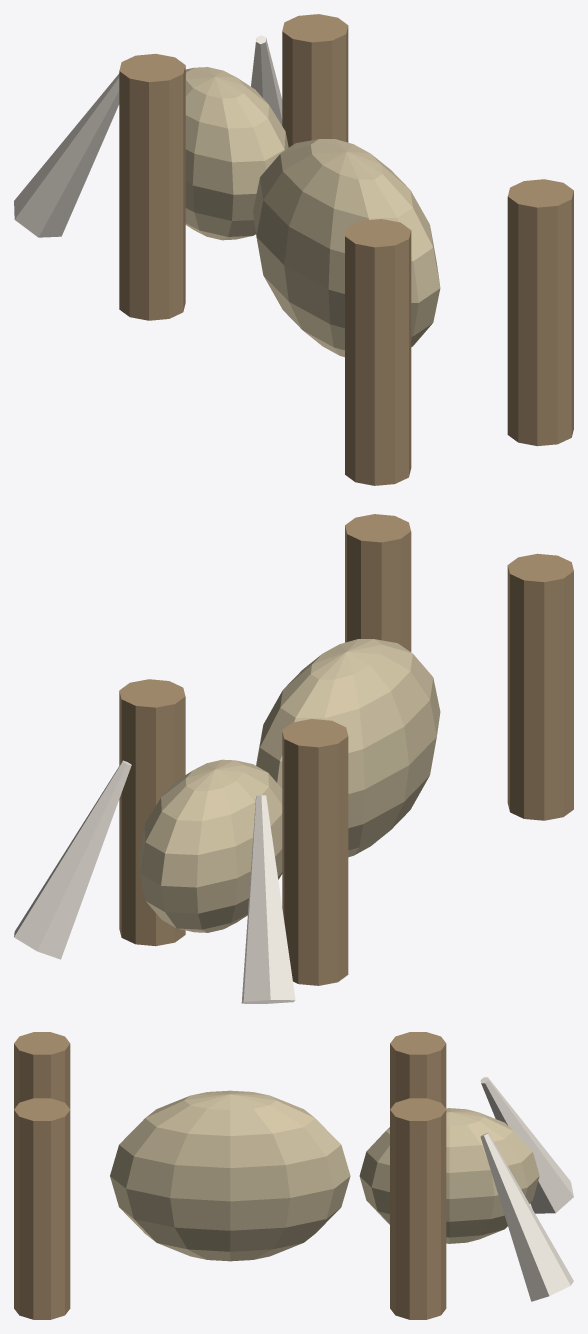
The model's file is animal_kambing.glb.
3 views of the same model, one above another, from view 1: azimuth 30°, elevation 25°; view 2: azimuth 150°, elevation 25°; view 3: azimuth 270°, elevation 25° (orthographic). The views are drawn at different scales.
Visible parts, largest first — view 1: kambing_body.002, kambing_leg_BR.002, kambing_leg_FL.002, kambing_leg_BL.002, kambing_head.002, kambing_leg_FR.002, kambing_tanduk_kanan.002, kambing_tanduk_kiri.002; view 2: kambing_body.002, kambing_head.002, kambing_leg_BL.002, kambing_leg_FL.002, kambing_leg_FR.002, kambing_leg_BR.002, kambing_tanduk_kiri.002, kambing_tanduk_kanan.002; view 3: kambing_body.002, kambing_leg_BR.002, kambing_leg_FR.002, kambing_head.002, kambing_tanduk_kiri.002, kambing_leg_BL.002, kambing_leg_FL.002, kambing_tanduk_kanan.002.
Part boxes in pixels (x1,y1,x2,y2): kambing_body.002: (253,139,440,357); kambing_leg_BR.002: (507,179,573,446); kambing_leg_FL.002: (119,53,185,320); kambing_leg_BL.002: (345,219,411,485); kambing_head.002: (185,67,288,240); kambing_leg_FR.002: (282,14,348,147); kambing_tanduk_kanan.002: (14,73,119,237); kambing_tanduk_kiri.002: (251,35,282,125); kambing_body.002: (256,639,440,857); kambing_head.002: (138,759,282,932); kambing_leg_BL.002: (507,553,573,820); kambing_leg_FL.002: (282,719,348,985); kambing_leg_FR.002: (119,679,185,946); kambing_leg_BR.002: (345,514,411,651); kambing_tanduk_kiri.002: (14,760,131,959); kambing_tanduk_kanan.002: (241,795,295,1003); kambing_body.002: (110,1090,350,1261); kambing_leg_BR.002: (14,1098,70,1319); kambing_leg_FR.002: (390,1098,446,1319); kambing_head.002: (359,1108,539,1243); kambing_tanduk_kiri.002: (480,1132,573,1301); kambing_leg_BL.002: (14,1032,70,1108); kambing_leg_FL.002: (390,1032,446,1109); kambing_tanduk_kanan.002: (480,1077,573,1213).
Bounding box in the file's own units: 0.8629 × 0.7 × 1.79.
